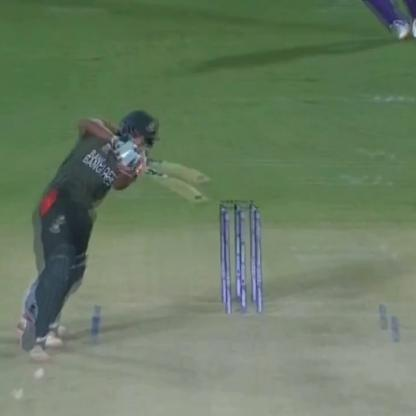ball: (30, 363, 48, 384), (10, 380, 24, 405)
bat: (122, 148, 218, 206)
pitch: (4, 287, 416, 414)
